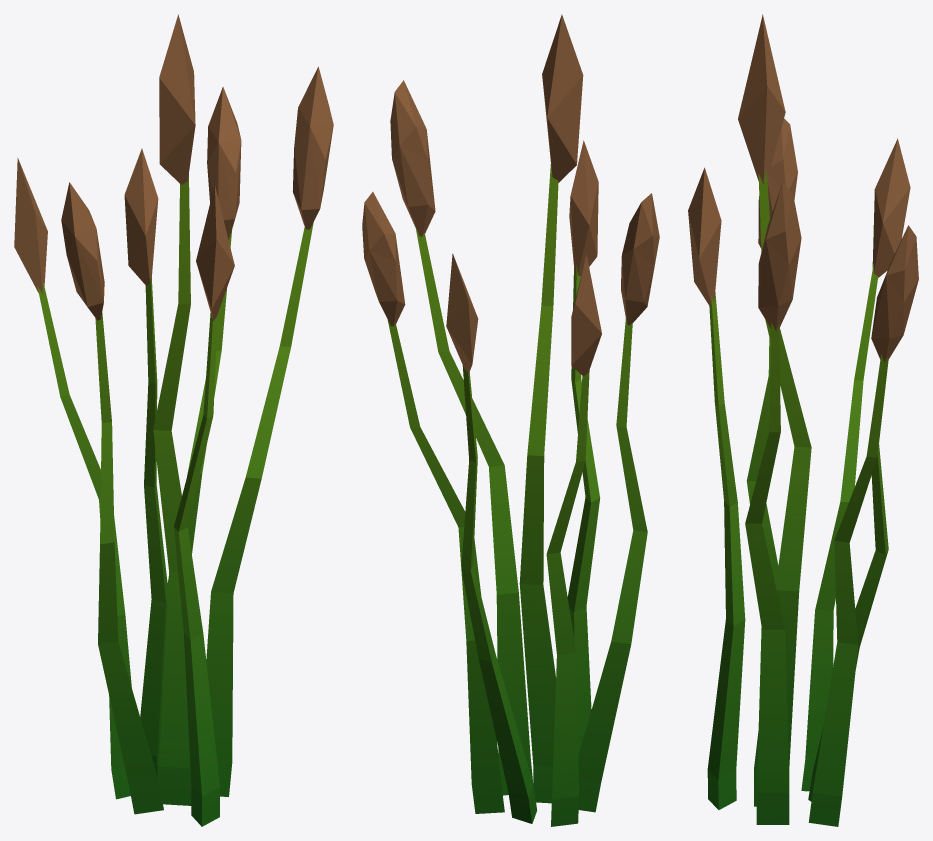
The model's file is Reeds_01.fbx.
3 renders of one model, left to right at view 1: azimuth 30°, elevation 25°; view 2: azimuth 150°, elevation 25°; view 3: azimuth 270°, elevation 25°, orthographic.
Parts seen in each view (by area): view 1: Reeds_01; view 2: Reeds_01; view 3: Reeds_01.
Boxes of the visible parts, x1,y1,x2,y2 form: Reeds_01: (14,14,333,826); Reeds_01: (362,14,659,826); Reeds_01: (688,14,918,826).
Size of the model in its own units: 24.17 by 68.84 by 18.24.
